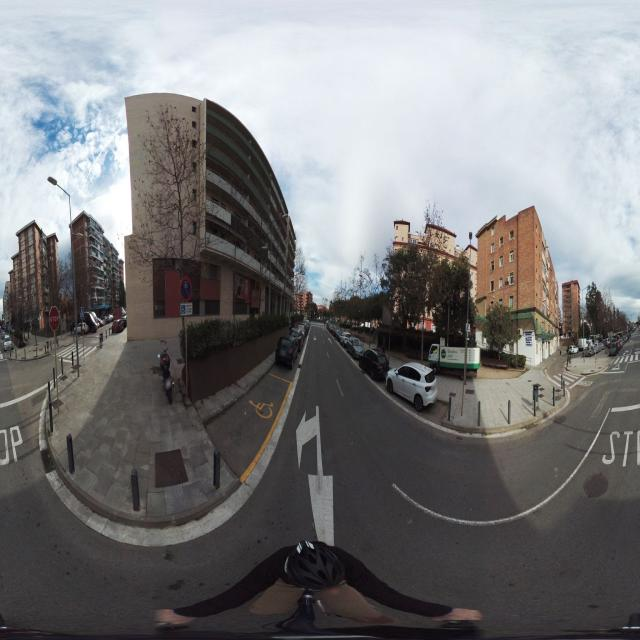forb_stopping: (180, 276, 193, 304), (12, 325, 14, 329)
